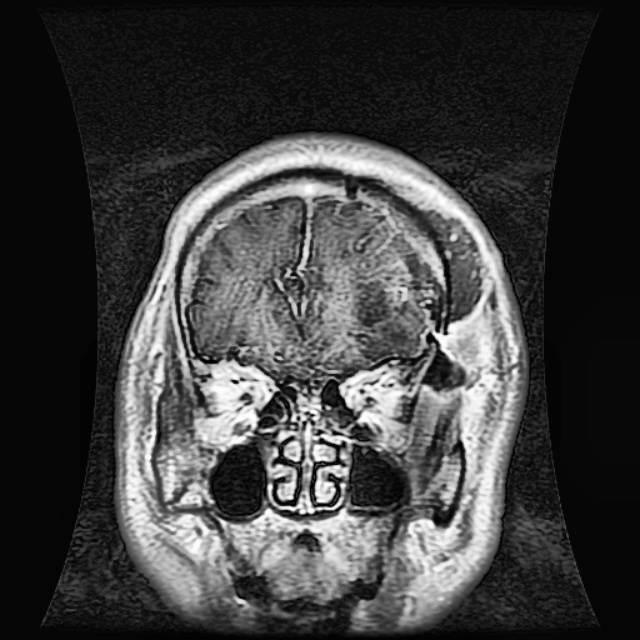Glioma: (355, 242, 445, 359)
